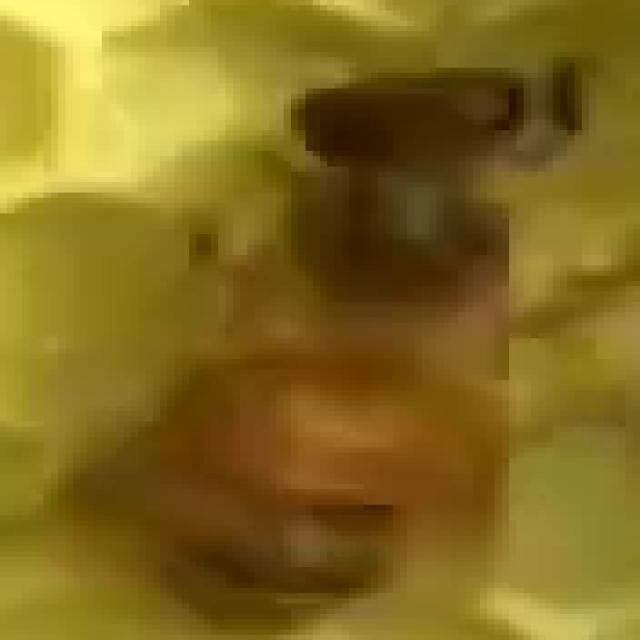honeybee: (65, 52, 633, 640)
